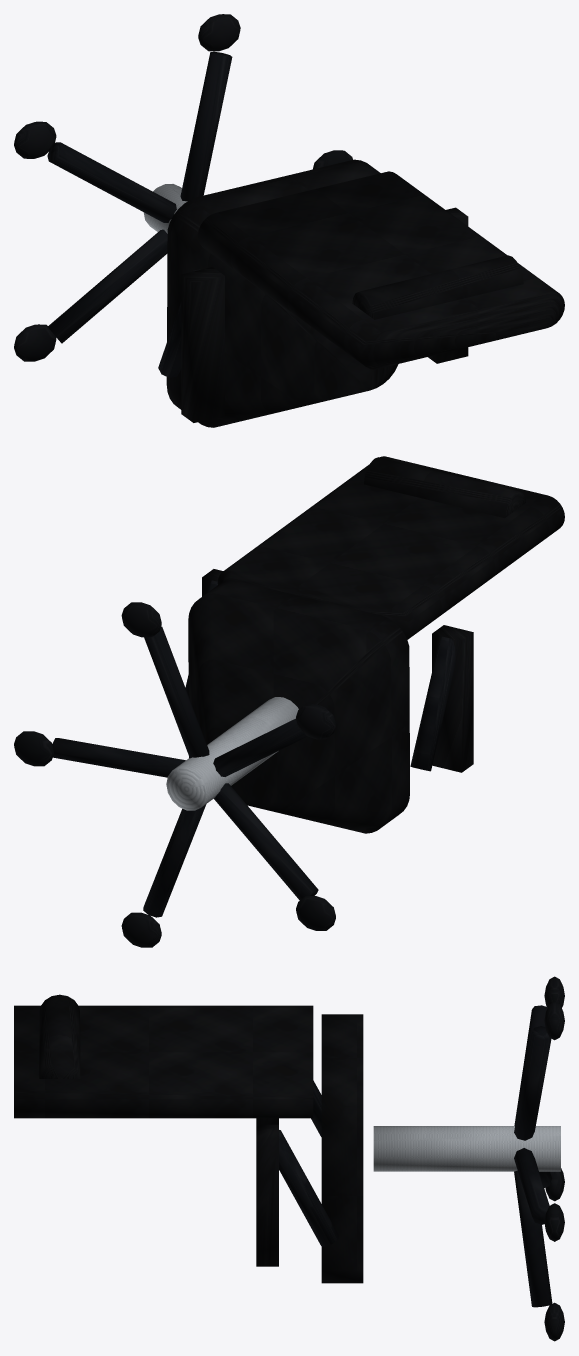
File: CHAIR_TASK_BLACK_HERO_001.glb
3 views of the same model, one above another, from view 1: azimuth 30°, elevation 25°; view 2: azimuth 150°, elevation 25°; view 3: azimuth 270°, elevation 25° (orthographic). The views are drawn at different scales.
Parts seen in each view (by area): view 1: back_001, seat_000, armrest_014, headrest_017, star_base_005, star_base_009, star_base_007, caster_006, caster_008, caster_010, armrest_post_013, gas_lift_002 (+1 smaller); view 2: seat_000, back_001, gas_lift_002, headrest_017, armrest_014, star_base_009, armrest_post_013, star_base_005, star_base_003, star_base_011, star_base_007, caster_012 (+4 smaller); view 3: back_001, seat_000, gas_lift_002, headrest_017, armrest_016, star_base_005, armrest_post_015, star_base_011, star_base_003, star_base_007, caster_006, caster_012 (+2 smaller).
Boxes of the visible parts, bbox=[...] form: back_001: bbox=[198, 171, 564, 369]; seat_000: bbox=[166, 159, 398, 427]; armrest_014: bbox=[181, 267, 224, 422]; headrest_017: bbox=[352, 255, 523, 319]; star_base_005: bbox=[180, 51, 232, 201]; star_base_009: bbox=[47, 229, 167, 343]; star_base_007: bbox=[47, 142, 176, 222]; caster_006: bbox=[198, 14, 240, 51]; caster_008: bbox=[14, 121, 56, 158]; caster_010: bbox=[14, 324, 56, 361]; armrest_post_013: bbox=[158, 269, 200, 377]; gas_lift_002: bbox=[143, 184, 187, 233]; seat_000: bbox=[188, 580, 409, 833]; back_001: bbox=[217, 456, 564, 639]; gas_lift_002: bbox=[166, 697, 298, 810]; headrest_017: bbox=[364, 457, 525, 518]; armrest_014: bbox=[432, 625, 473, 772]; star_base_009: bbox=[214, 783, 318, 900]; armrest_post_013: bbox=[410, 636, 455, 771]; star_base_005: bbox=[144, 626, 209, 758]; star_base_003: bbox=[52, 738, 185, 777]; star_base_011: bbox=[143, 804, 206, 917]; star_base_007: bbox=[213, 718, 307, 776]; caster_012: bbox=[121, 912, 161, 947]; back_001: bbox=[14, 1005, 313, 1118]; seat_000: bbox=[321, 1014, 363, 1283]; gas_lift_002: bbox=[373, 1126, 560, 1171]; headrest_017: bbox=[39, 994, 80, 1078]; armrest_016: bbox=[256, 1124, 278, 1266]; star_base_005: bbox=[514, 1026, 551, 1140]; armrest_post_015: bbox=[279, 1130, 338, 1246]; star_base_011: bbox=[514, 1170, 552, 1307]; star_base_003: bbox=[514, 1148, 549, 1224]; star_base_007: bbox=[514, 1005, 547, 1125]; caster_006: bbox=[544, 1001, 564, 1040]; caster_012: bbox=[544, 1302, 564, 1341].
Size of the model in its own units: 0.8678 by 0.8889 by 1.32.
Materials: 4 (4 with a texture image).
